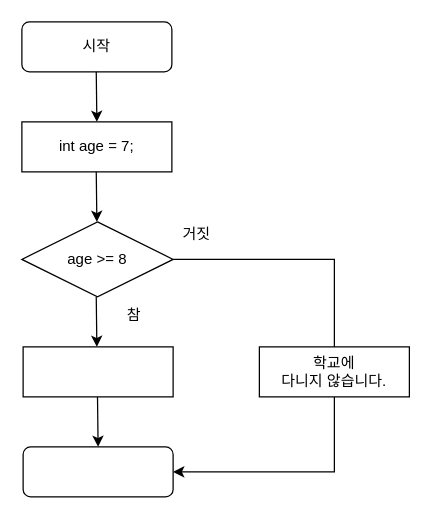
This 431x519 diagram has some shape labels left out. The centre of each missing label's shape, as x and y in pixels:
종료: the point at 97,471
학교에 다닙니다.: the point at 97,371
